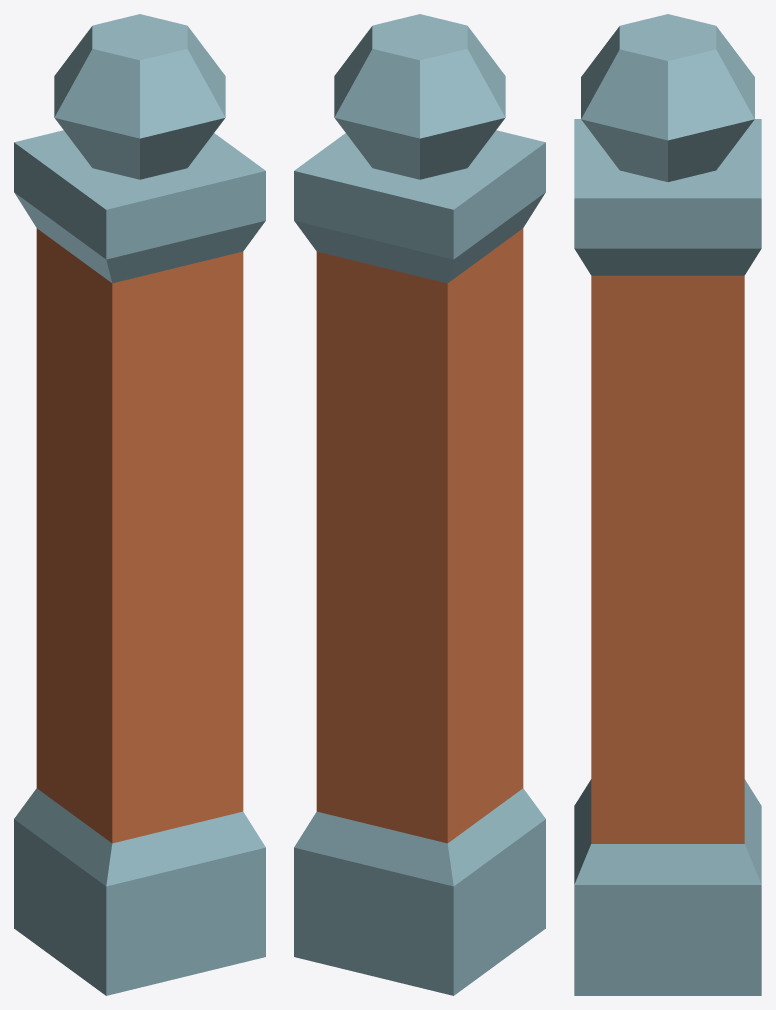
The model's file is pillarLarge.obj.
3 views of the same model, side by side, from view 1: azimuth 30°, elevation 25°; view 2: azimuth 150°, elevation 25°; view 3: azimuth 270°, elevation 25° (orthographic).
Visible parts, largest first — view 1: pillarLarge; view 2: pillarLarge; view 3: pillarLarge.
Boxes of the visible parts, bbox=[...] form: pillarLarge: bbox=[14, 14, 265, 995]; pillarLarge: bbox=[294, 14, 545, 995]; pillarLarge: bbox=[574, 14, 761, 995].
Size of the model in its own units: 0.18 by 0.91 by 0.168.
